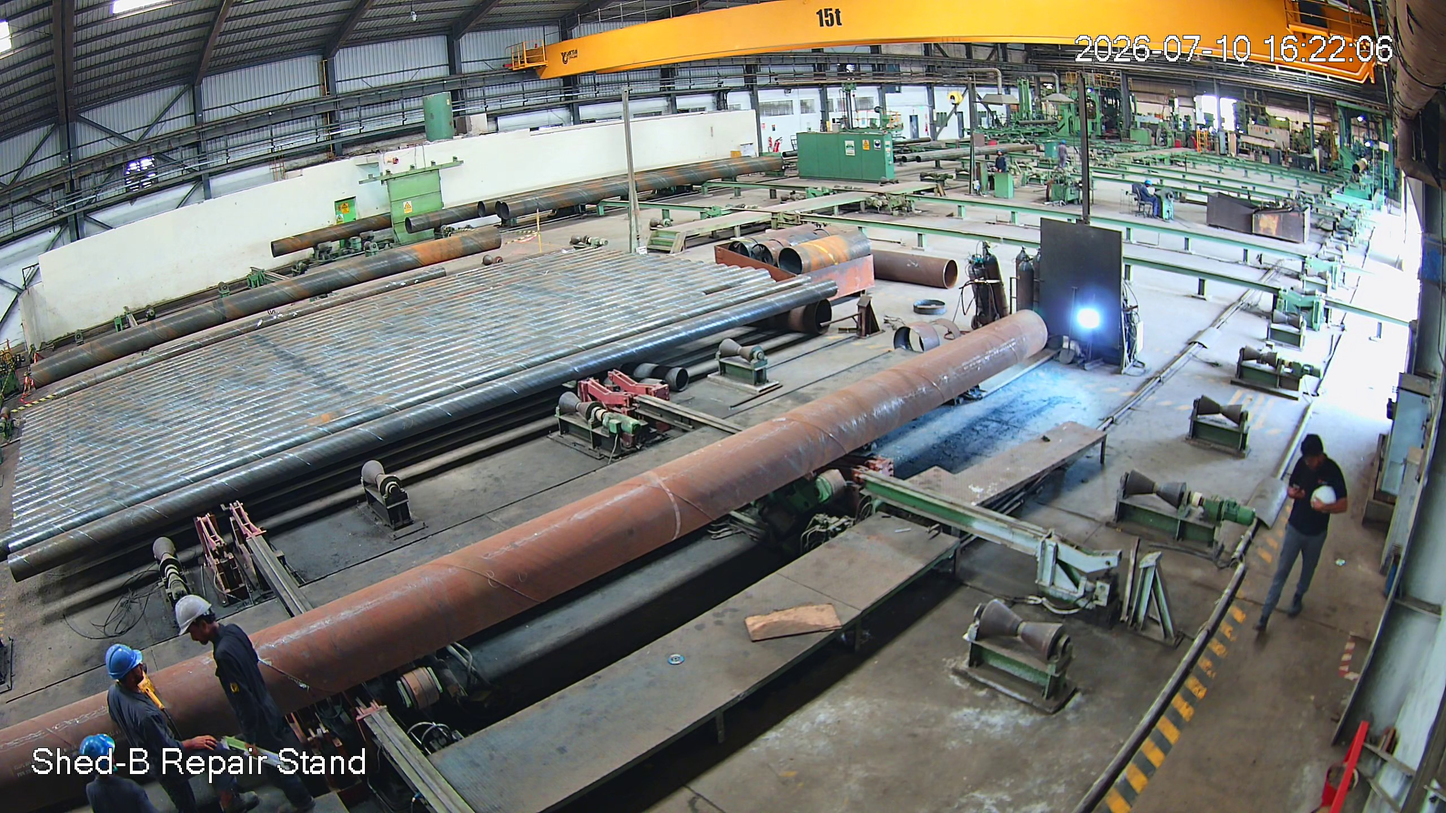Helmet: (169, 592, 225, 652), (98, 642, 157, 694), (70, 721, 120, 774), (1142, 177, 1157, 191)
Person: (172, 594, 287, 754), (1263, 427, 1337, 626), (102, 641, 191, 801), (71, 726, 156, 813), (1138, 178, 1159, 223)
